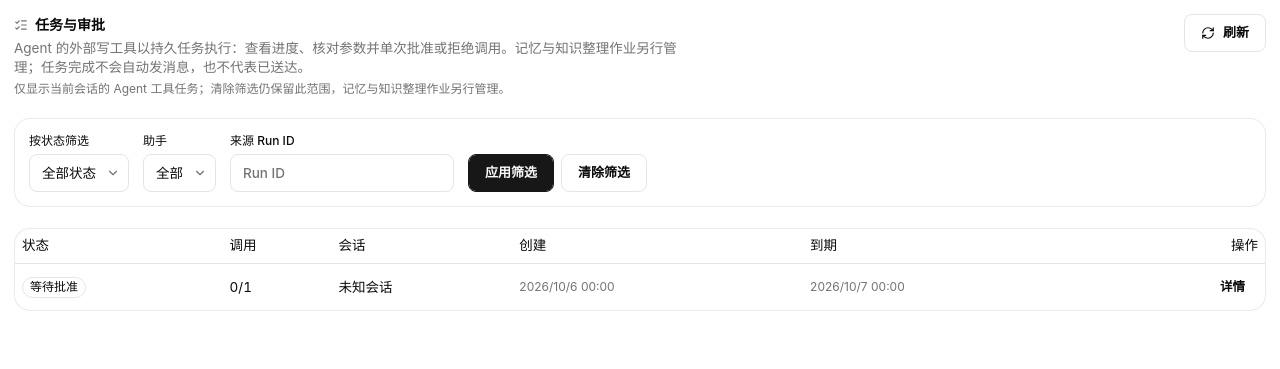
Scenario: conversation arrival instant update › task detail background refresh failure displays an error
Click the button "详情".
click(1232, 287)  # box [1207,271,1258,303]
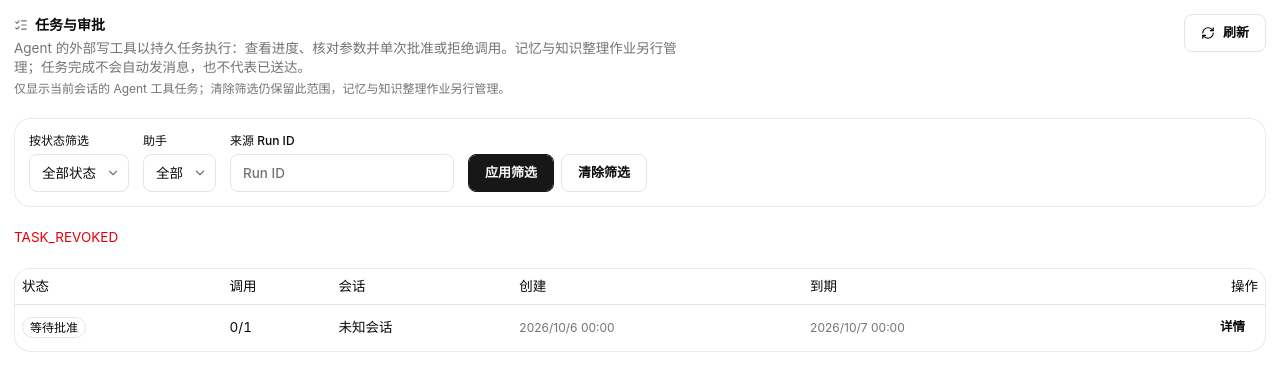
Result: the message "TASK_REVOKED" is shown at [14,229,118,245]
